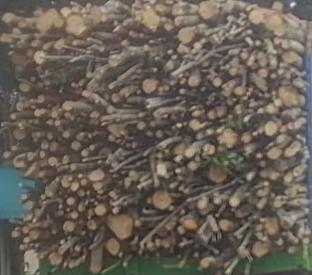large: (108, 215, 134, 238), (67, 15, 85, 35), (24, 251, 38, 274)
medium: (142, 9, 159, 32), (218, 129, 236, 148), (154, 191, 171, 209), (210, 167, 227, 183), (199, 1, 215, 18), (178, 28, 195, 43), (253, 242, 268, 257), (249, 10, 264, 24), (267, 16, 281, 30), (142, 80, 157, 93), (107, 240, 120, 255), (38, 16, 51, 30), (265, 122, 277, 137), (89, 170, 104, 181), (219, 220, 232, 231), (184, 219, 198, 229), (35, 51, 46, 63), (268, 148, 280, 159), (14, 129, 26, 140), (190, 119, 201, 131), (197, 197, 209, 208), (283, 52, 296, 62), (64, 221, 75, 232), (173, 4, 184, 15), (274, 25, 285, 36), (189, 76, 200, 86), (96, 205, 106, 215), (158, 165, 167, 176), (257, 188, 269, 196), (63, 101, 73, 110), (242, 133, 251, 143), (62, 176, 70, 187), (61, 8, 70, 17), (21, 83, 31, 91), (285, 149, 295, 157), (266, 104, 274, 114), (55, 17, 63, 26), (49, 157, 57, 166), (88, 221, 96, 230), (4, 13, 13, 21), (51, 142, 58, 152), (235, 87, 245, 94), (208, 110, 215, 120), (19, 19, 27, 27), (31, 230, 38, 239), (110, 57, 117, 66), (72, 182, 79, 191), (27, 201, 33, 211), (67, 198, 75, 205), (17, 103, 24, 111), (42, 141, 49, 149), (38, 96, 45, 103), (122, 40, 129, 46), (34, 109, 40, 116), (23, 227, 29, 233), (113, 207, 119, 213), (13, 231, 18, 237)
small: (185, 149, 194, 158), (229, 198, 239, 206), (93, 182, 102, 190), (166, 222, 175, 230), (188, 162, 196, 170), (72, 142, 80, 150), (276, 239, 283, 247), (32, 40, 39, 48), (229, 68, 236, 76), (138, 122, 145, 129), (214, 79, 221, 86), (112, 94, 118, 102), (256, 203, 264, 209), (245, 146, 251, 153), (214, 198, 220, 205), (275, 99, 281, 106), (260, 70, 267, 76), (174, 156, 181, 162), (72, 212, 78, 219), (81, 150, 88, 156), (83, 91, 90, 97), (194, 42, 201, 48), (196, 133, 203, 139), (95, 71, 101, 78), (241, 53, 247, 59), (109, 135, 115, 141), (163, 241, 169, 247), (280, 126, 286, 132), (256, 226, 262, 232), (24, 237, 30, 243), (65, 113, 71, 119), (55, 43, 61, 49), (288, 123, 294, 129), (63, 156, 68, 163), (247, 174, 252, 181), (108, 106, 113, 113), (11, 114, 16, 121), (52, 112, 57, 118), (157, 131, 162, 137), (176, 123, 182, 128), (109, 192, 115, 197), (243, 117, 248, 123), (64, 132, 69, 138), (179, 89, 185, 94), (40, 171, 45, 177), (4, 152, 9, 158), (82, 180, 87, 185), (41, 195, 46, 200), (257, 154, 262, 159), (271, 74, 276, 79), (207, 130, 212, 135), (264, 182, 269, 187), (164, 85, 169, 90), (218, 128, 223, 133), (22, 194, 27, 199), (12, 146, 17, 151), (45, 80, 50, 85), (101, 16, 106, 21), (181, 209, 185, 215), (80, 190, 84, 196), (132, 142, 136, 148), (261, 161, 265, 167), (48, 133, 52, 139), (41, 151, 45, 157), (55, 121, 60, 125), (90, 145, 94, 150), (79, 174, 83, 179), (151, 122, 155, 127), (20, 245, 24, 250), (278, 69, 283, 73), (256, 41, 261, 45), (168, 50, 173, 54), (100, 47, 104, 52), (158, 153, 162, 158), (194, 253, 199, 257), (158, 87, 163, 91), (201, 39, 205, 44), (41, 109, 45, 114), (73, 7, 78, 11), (80, 81, 84, 85), (35, 244, 39, 248), (249, 88, 253, 92), (98, 161, 102, 165), (179, 187, 183, 191), (184, 190, 188, 194), (76, 247, 80, 251), (127, 144, 131, 148), (148, 243, 152, 247), (215, 251, 219, 255), (59, 211, 63, 215), (35, 120, 39, 124), (71, 117, 75, 121), (31, 77, 35, 81), (73, 41, 77, 45), (172, 56, 177, 59), (115, 21, 118, 26), (87, 191, 90, 195), (33, 219, 36, 223), (243, 96, 247, 99), (44, 45, 47, 49), (109, 85, 113, 88), (88, 134, 91, 138), (122, 172, 126, 175), (113, 175, 117, 178), (184, 122, 187, 126), (253, 132, 257, 135), (30, 244, 34, 247), (29, 120, 33, 123), (69, 177, 72, 180), (67, 209, 70, 212), (59, 206, 62, 209), (229, 115, 232, 118), (235, 233, 238, 236), (19, 124, 22, 127), (72, 83, 75, 86), (87, 38, 90, 41), (176, 170, 180, 172), (83, 160, 85, 163), (247, 93, 250, 95)
